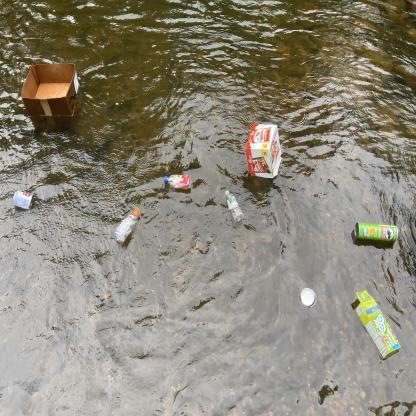trash: (349, 288, 402, 362), (20, 60, 82, 122), (244, 119, 282, 182), (112, 206, 145, 248), (349, 222, 400, 246), (223, 186, 245, 228), (11, 188, 36, 213), (162, 172, 192, 192), (298, 286, 318, 312)
